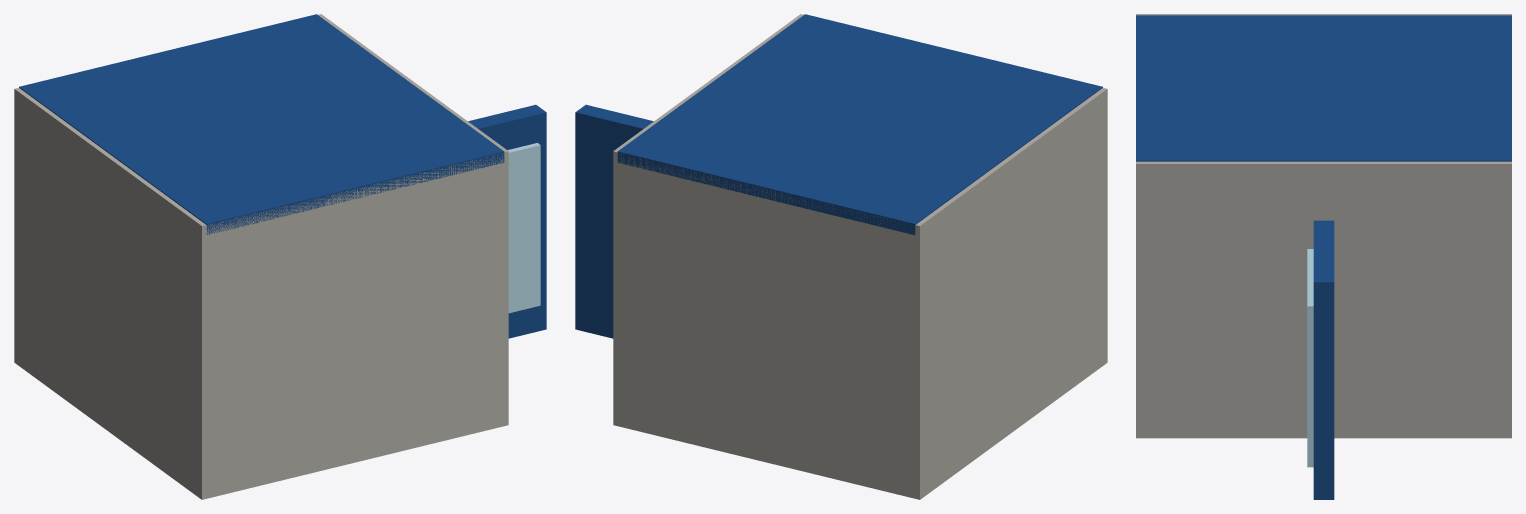
The model's file is PRP_BusStop.fbx.
3 renders of one model, left to right at view 1: azimuth 30°, elevation 25°; view 2: azimuth 150°, elevation 25°; view 3: azimuth 270°, elevation 25°, orthographic.
Visible parts, largest first — view 1: PRP_BusStop__COL_Main, PRP_BusStop__BODY; view 2: PRP_BusStop__COL_Main, PRP_BusStop__BODY; view 3: PRP_BusStop__COL_Main, PRP_BusStop__BODY.
Part boxes in pixels (x1,y1,x2,y2): PRP_BusStop__COL_Main: (14, 14, 508, 499); PRP_BusStop__BODY: (19, 14, 546, 338); PRP_BusStop__COL_Main: (613, 14, 1107, 499); PRP_BusStop__BODY: (575, 14, 1102, 338); PRP_BusStop__COL_Main: (1136, 14, 1511, 438); PRP_BusStop__BODY: (1136, 15, 1511, 499).
Size of the model in its own units: 4.8 by 2.91 by 3.6.
